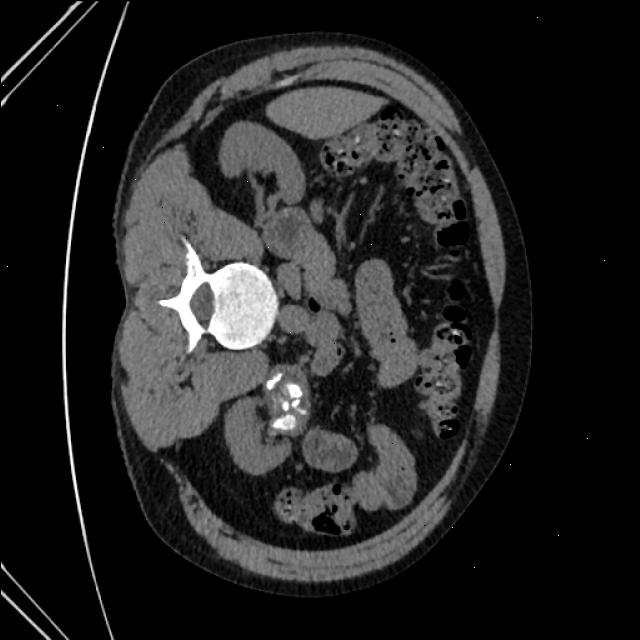kidneystone: (272, 415, 295, 430), (266, 374, 281, 390), (286, 384, 301, 398), (291, 400, 299, 408), (282, 401, 288, 411)
